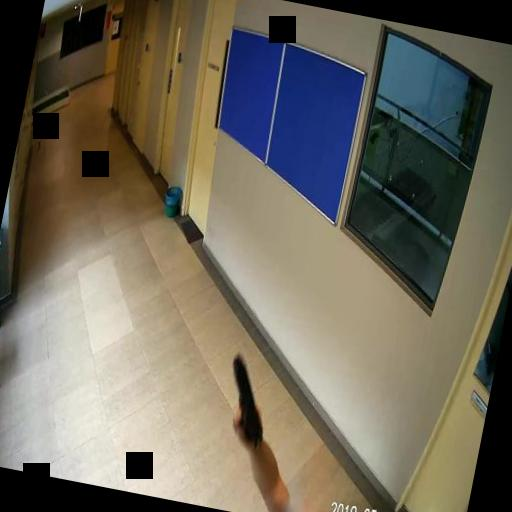Handgun: (218, 352, 276, 448)
